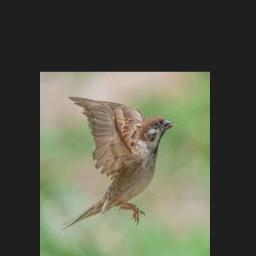Sparrow: (62, 96, 176, 229)
